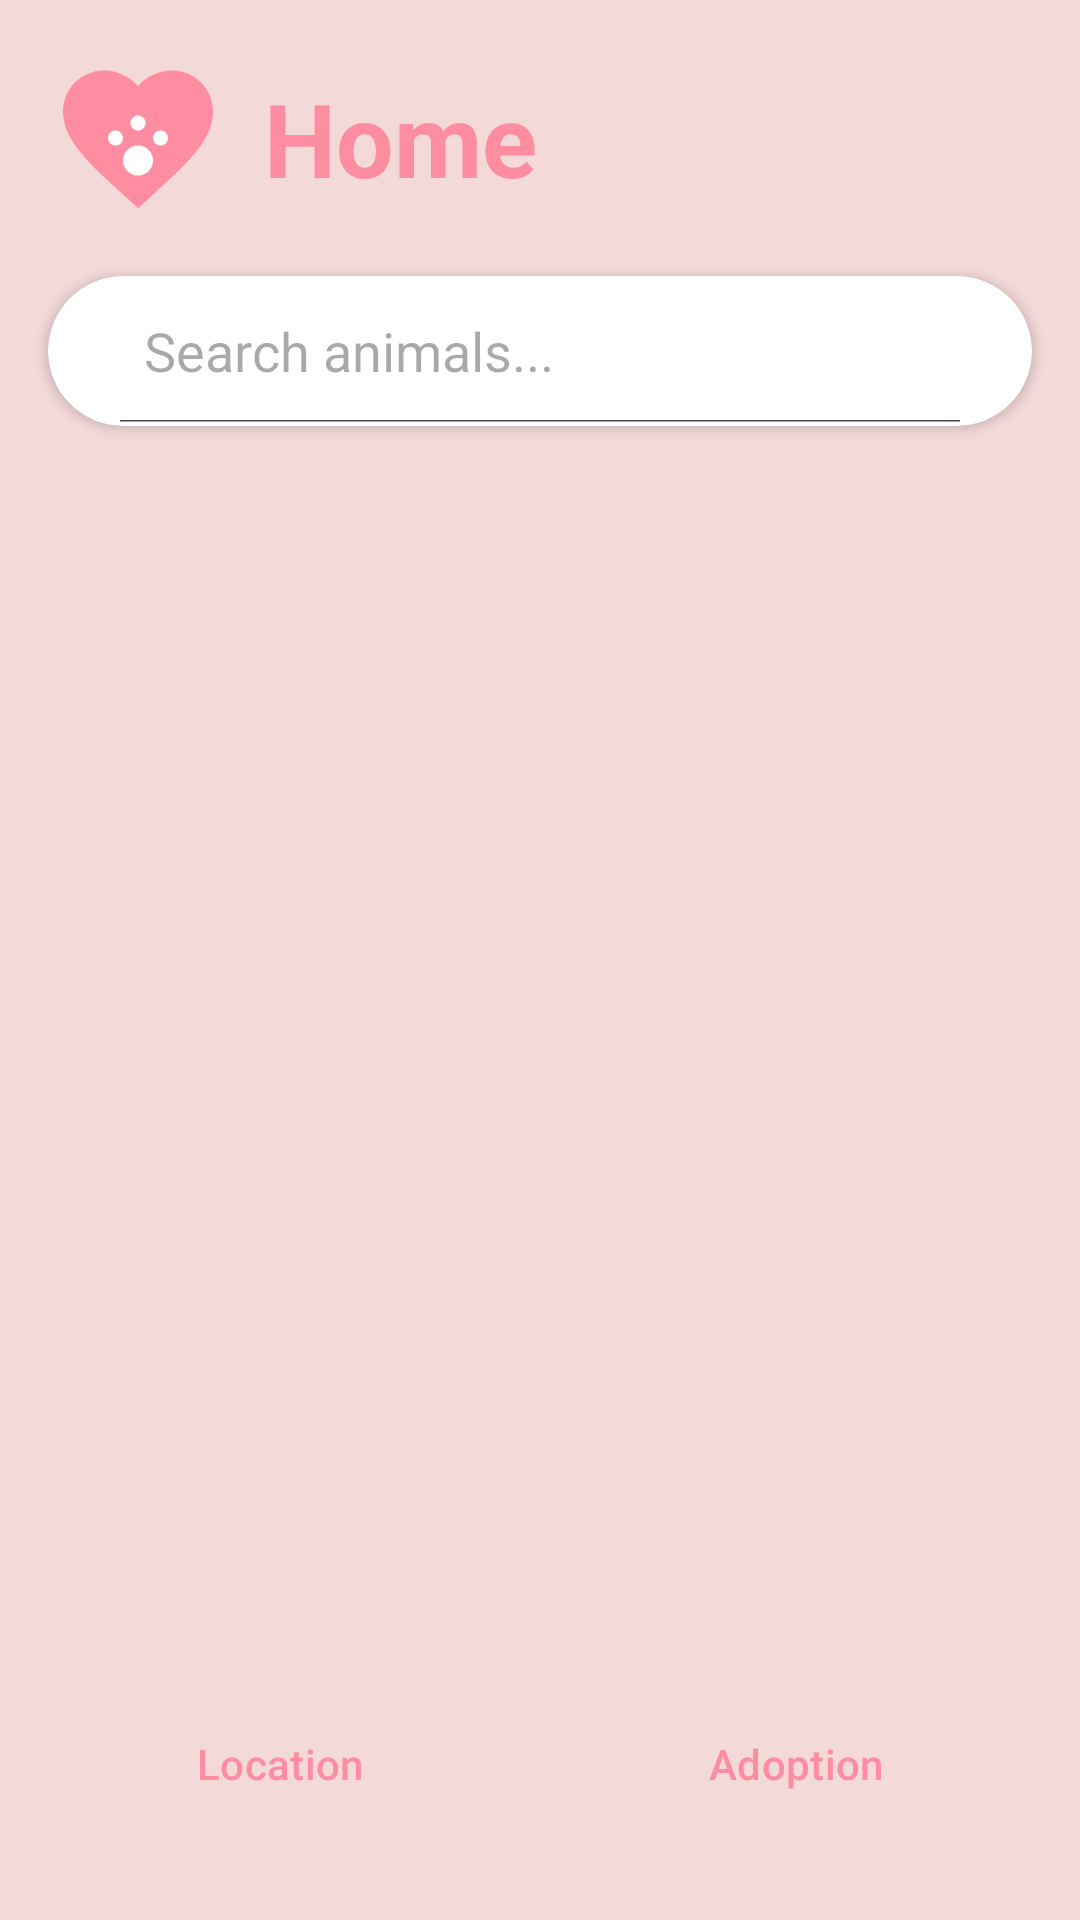

Locate icon controls on the screen. Image size 1080w x 1920h, boxes as box=[x1, y1, x2, y2].
heart paw: box=[63, 70, 213, 208]
